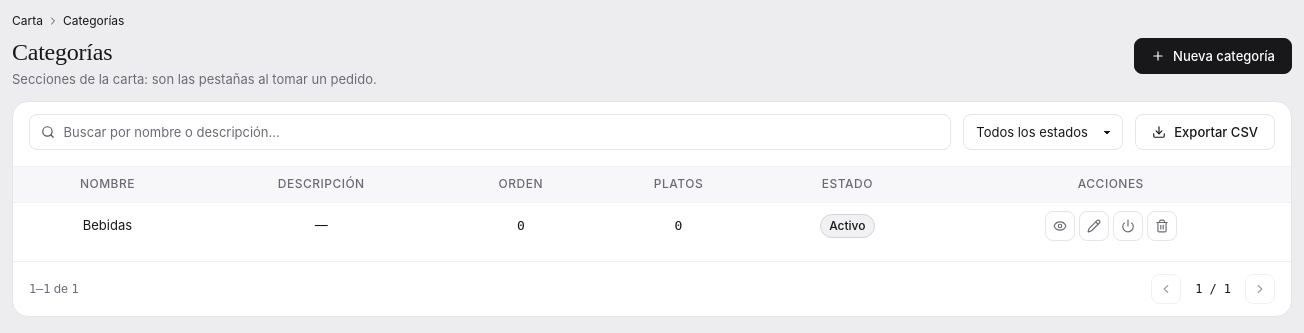
Test case: Categorías — exportar a CSV › si el backend rechaza la exportación, la alerta dice su causa (aunque llegue como archivo)
The width and height of the screenshot is (1304, 333).
Expected: the link "Bebidas" is shown, 83,217 -> 132,233
Step 1. Click the button "Exportar CSV" → (1205, 132), box 1135,114 -> 1275,150
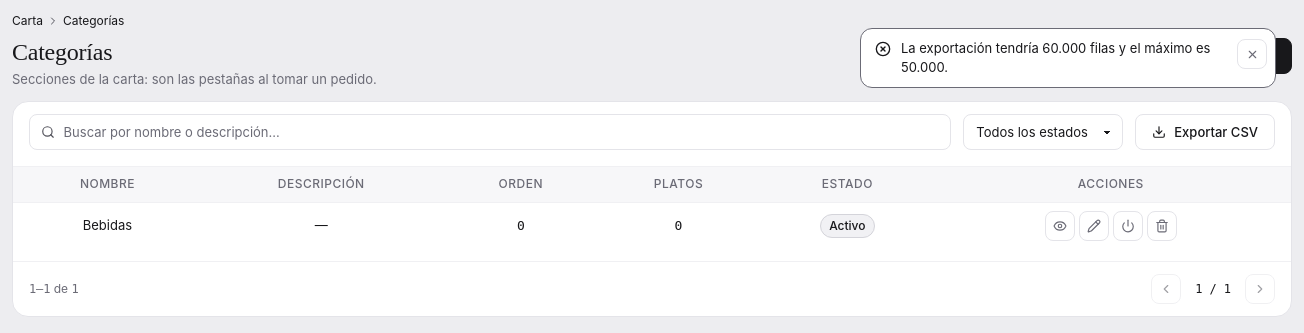
Now the message reads "La exportación tendría 60.000 filas y el máximo es 50.000.", box 901,40 -> 1210,75
